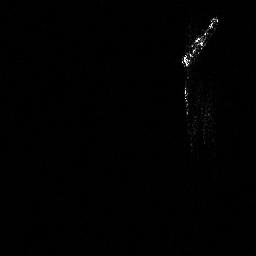ship: (177, 11, 221, 71)
